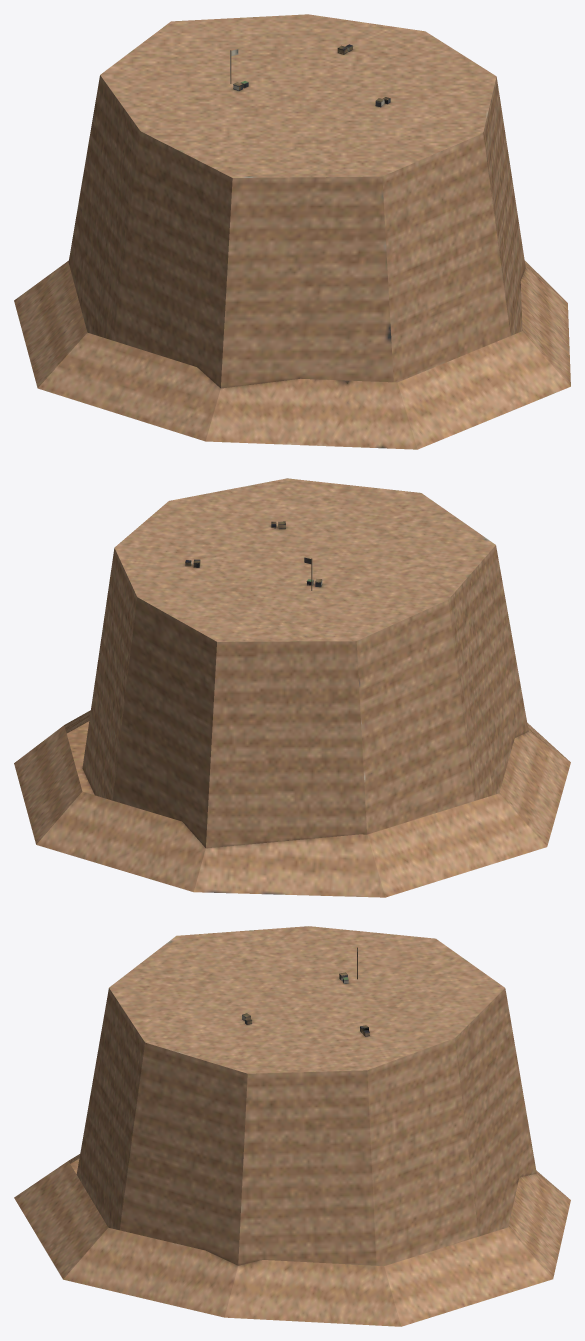
The model's file is SM_Mesa.fbx.
3 views of the same model, one above another, from view 1: azimuth 30°, elevation 25°; view 2: azimuth 150°, elevation 25°; view 3: azimuth 270°, elevation 25° (orthographic). The views are drawn at different scales.
Parts seen in each view (by area): view 1: SM_Mesa; view 2: SM_Mesa; view 3: SM_Mesa.
Part boxes in pixels (x1=…): SM_Mesa: x1=14, y1=14, x2=570, y2=449; SM_Mesa: x1=14, y1=478, x2=570, y2=897; SM_Mesa: x1=14, y1=926, x2=570, y2=1326.
Size of what is drawn, in the model's own units: 7861 by 3950 by 8024.
Materials: 1 (1 with a texture image).
